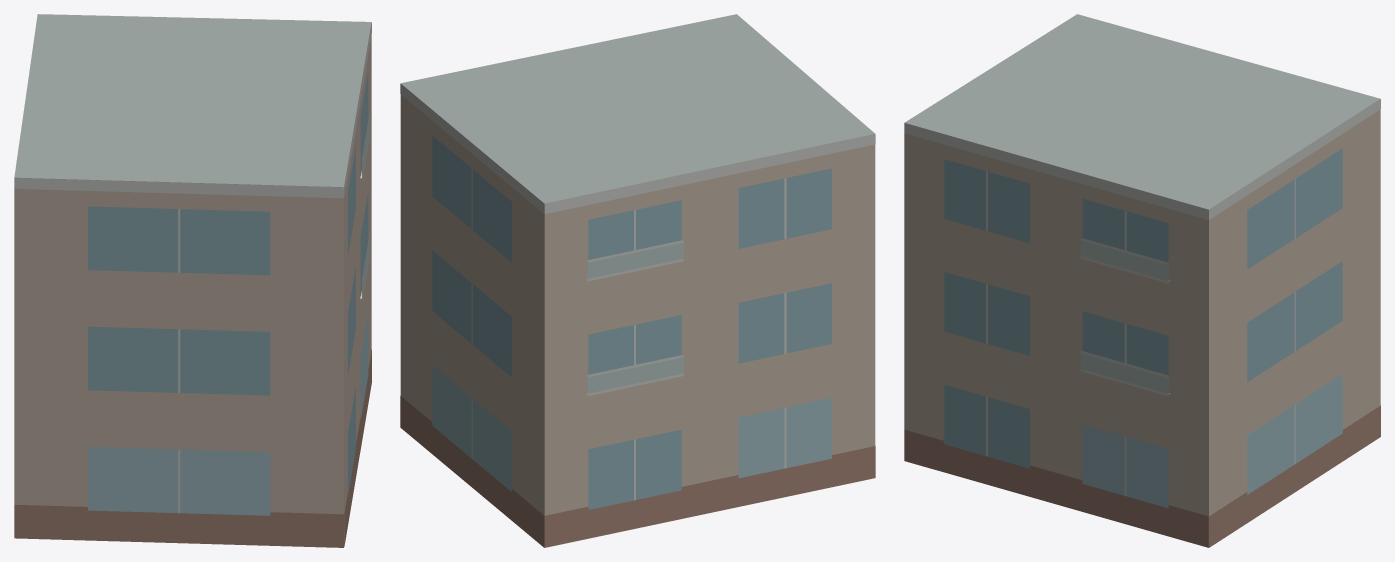
Rendered from survey-upis-32980801.glb.
3 views of the same model, side by side, from view 1: azimuth 30°, elevation 25°; view 2: azimuth 150°, elevation 25°; view 3: azimuth 270°, elevation 25° (orthographic). The views are drawn at different scales.
Visible parts, largest first — view 1: survey-upis-32980801.tmp; view 2: survey-upis-32980801.tmp; view 3: survey-upis-32980801.tmp.
Boxes of the visible parts, <box> form: survey-upis-32980801.tmp: <box>14,14,371,547</box>; survey-upis-32980801.tmp: <box>400,14,875,547</box>; survey-upis-32980801.tmp: <box>904,14,1380,547</box>.
Bounding box in the file's own units: 9.81 × 7.9 × 10.09.
